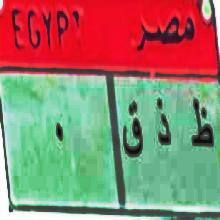0: (50, 107, 69, 154)
Thaa: (184, 90, 216, 159)
qaaf: (122, 94, 144, 163)
zaal: (149, 87, 172, 158)
